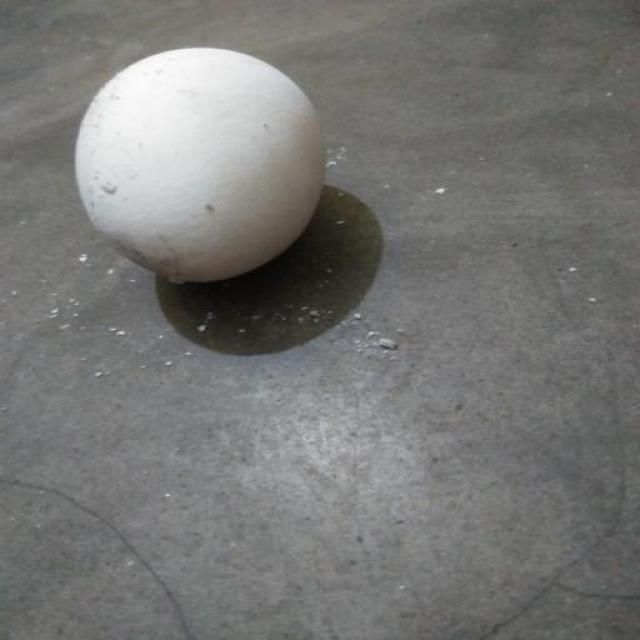telur: (74, 47, 322, 282)
